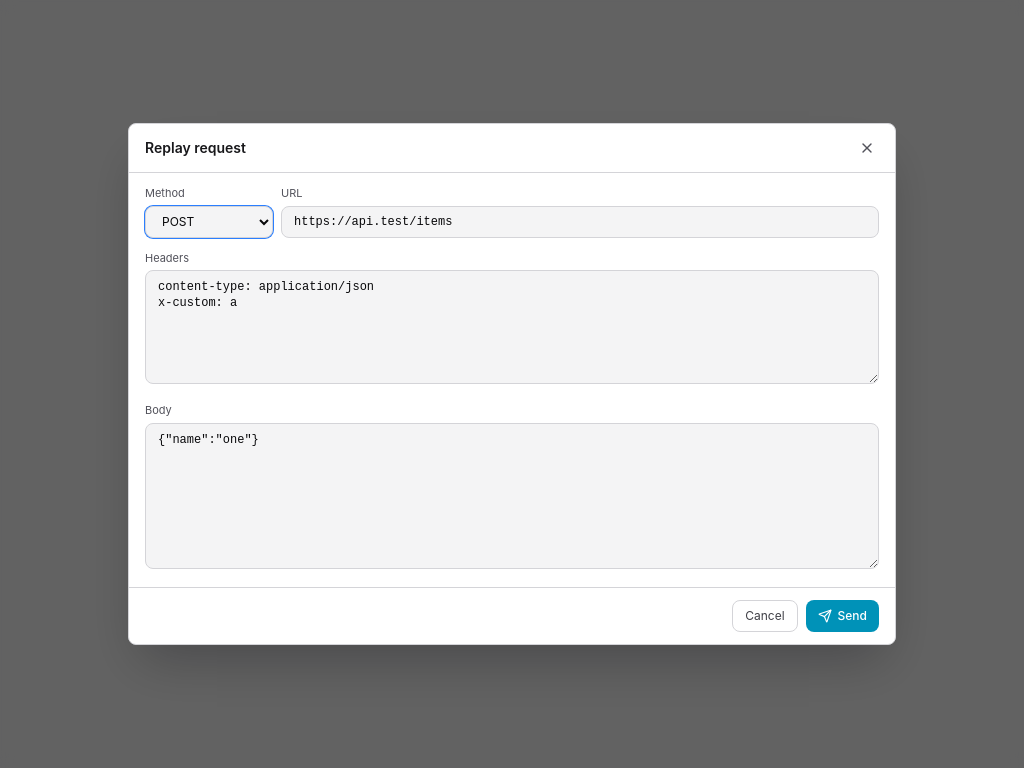
Test case: ReplayDialog › rejects a malformed header line without sending
This screenshot has width=1024, height=768.
Expected: the field labelled "URL" is shown, [281,206,879,238]
Replace the text in the text box labelled "Headers" with "nocolon" at [512, 327], box [145,270,879,384]
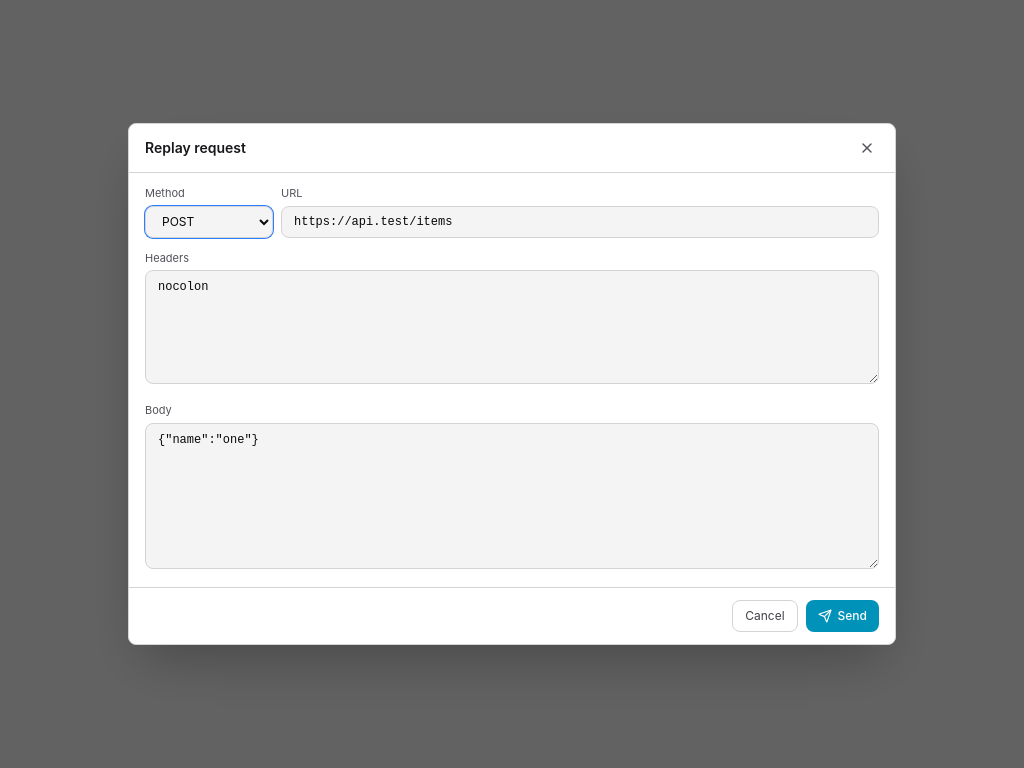
Click the button "Send" at [842, 616], box [806,600,879,632]
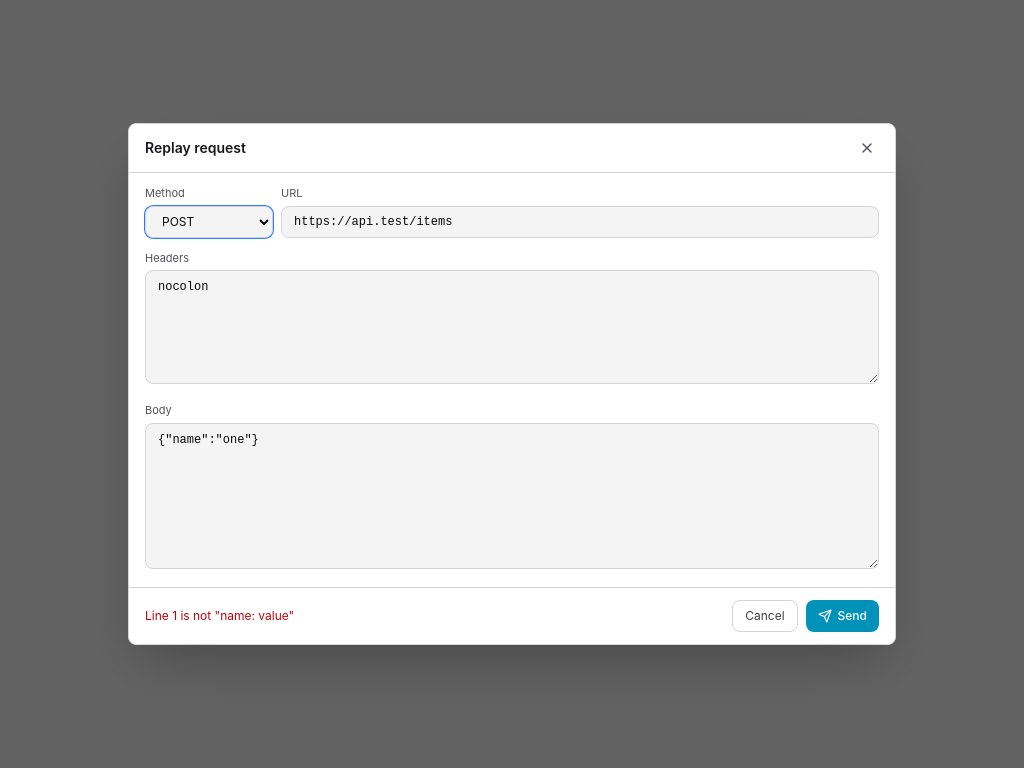
Expected: the text "Line 1 is not \"name: value\"" is shown, [145,608,294,623]
